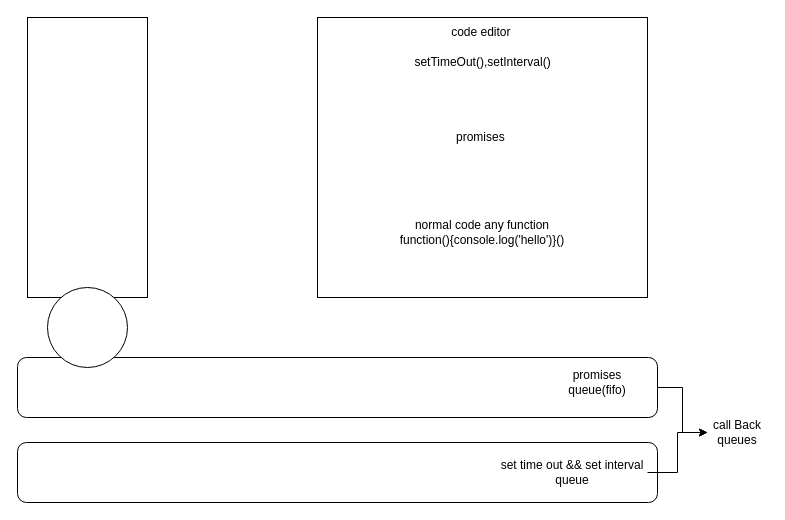
This 785x520 diagram has some shape labels left out. The shapes that lost their labels are listed below. From the top down, each one's centre as x and y in pixels, then its label:
At point 87,157: "call stack(lifo)".
At point 87,327: "event loop".
